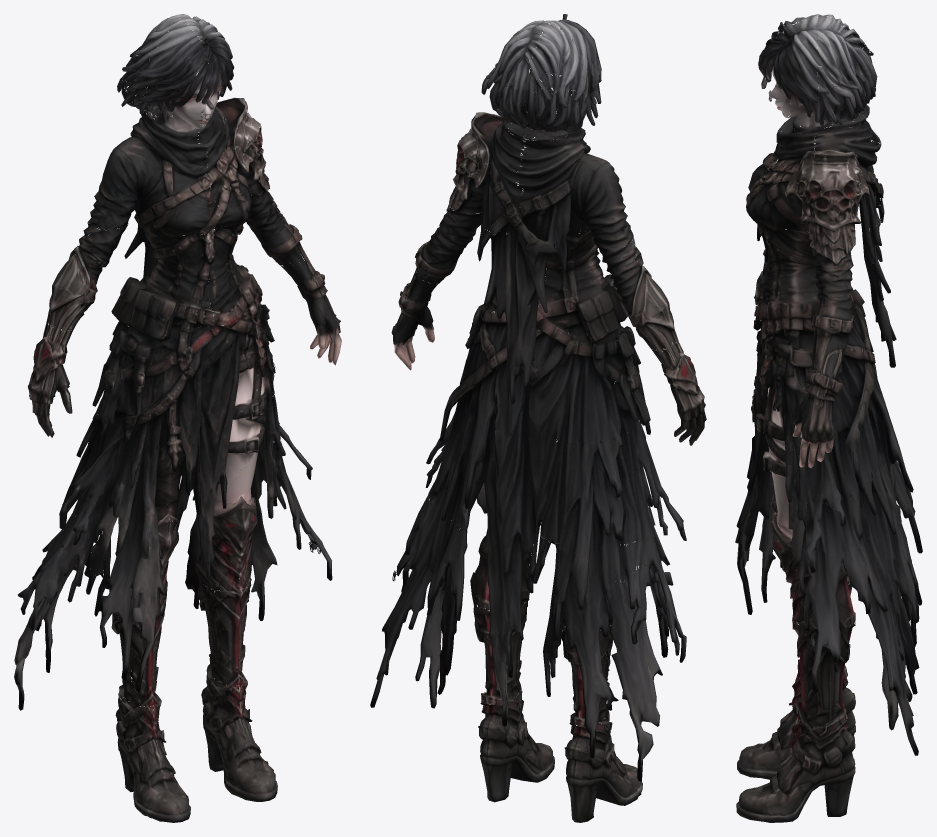
Rendered from ain_tex_lo.glb.
3 views of the same model, side by side, from view 1: azimuth 30°, elevation 25°; view 2: azimuth 150°, elevation 25°; view 3: azimuth 270°, elevation 25° (orthographic).
Visible parts, largest first — view 1: Mesh; view 2: Mesh; view 3: Mesh.
Boxes of the visible parts, x1,y1,x2,y2 form: Mesh: [14, 14, 341, 822]; Mesh: [370, 14, 706, 822]; Mesh: [735, 14, 922, 822].
Bounding box in the file's own units: 0.6969 × 1.68 × 0.3686.
1 material, 1 textured.
